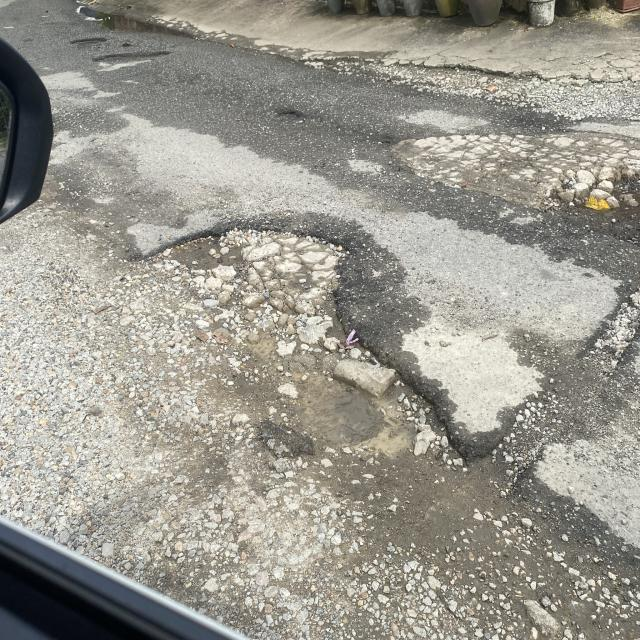pothole: (362, 299, 522, 533), (178, 185, 340, 335)
